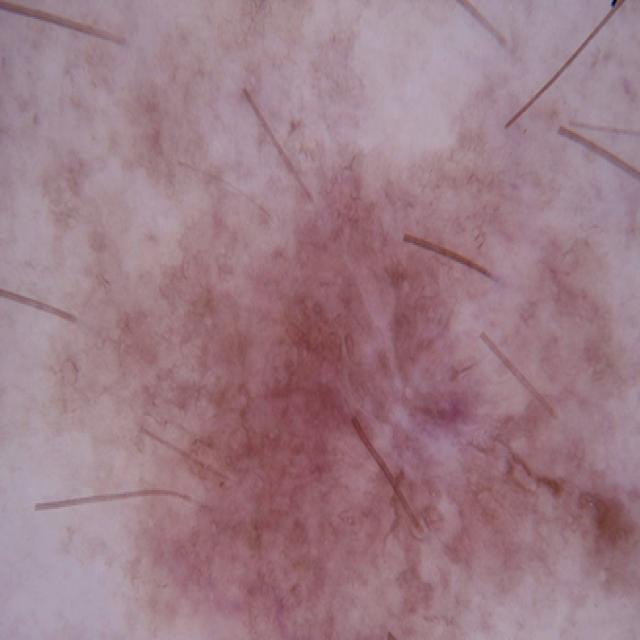Keratosis: (84, 163, 613, 640)
